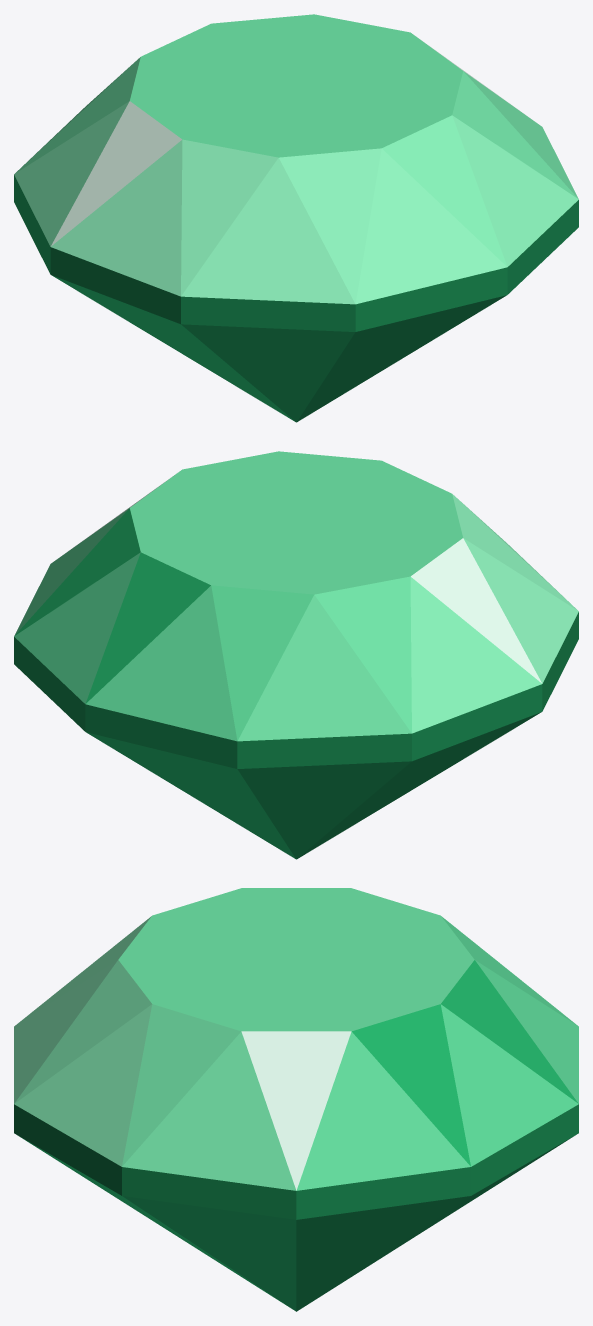
File: FWL_Gems.glb
The picture shows the model from 3 angles, top to bottom: view 1: azimuth 30°, elevation 25°; view 2: azimuth 150°, elevation 25°; view 3: azimuth 270°, elevation 25°; orthographic projection. The views are drawn at different scales.
Parts seen in each view (by area): view 1: Gem; view 2: Gem; view 3: Gem.
Boxes of the visible parts, x1,y1,x2,y2 form: Gem: (14, 14, 578, 422); Gem: (14, 451, 578, 859); Gem: (14, 888, 578, 1311).
Bounding box in the file's own units: 1.3 × 0.85 × 1.24.
1 material, 1 textured.
